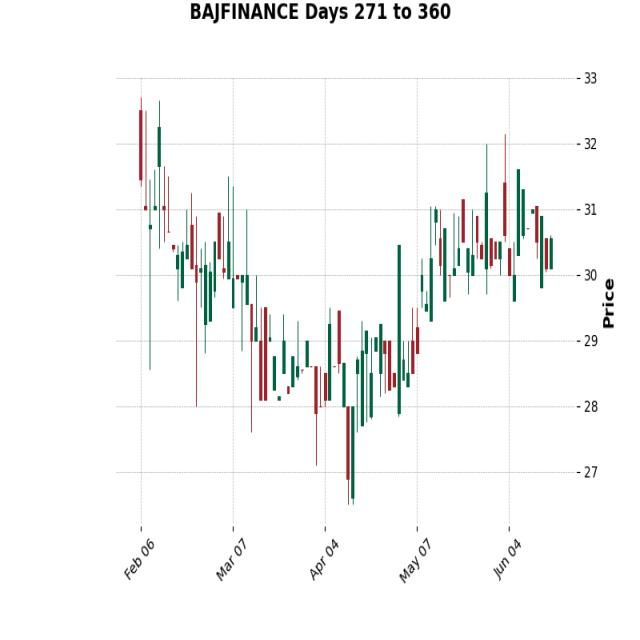Cup and Handle: (216, 176, 527, 494)
